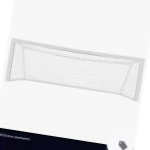goals: (4, 37, 145, 103)
